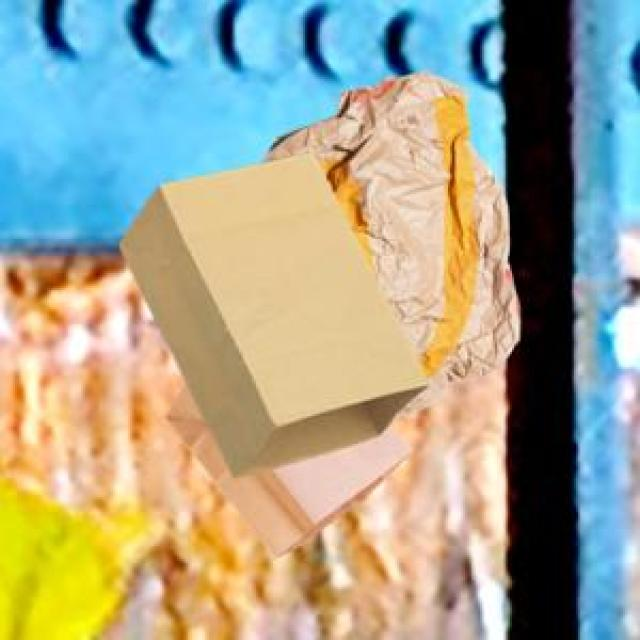PaperCardboard: (122, 76, 519, 562)
